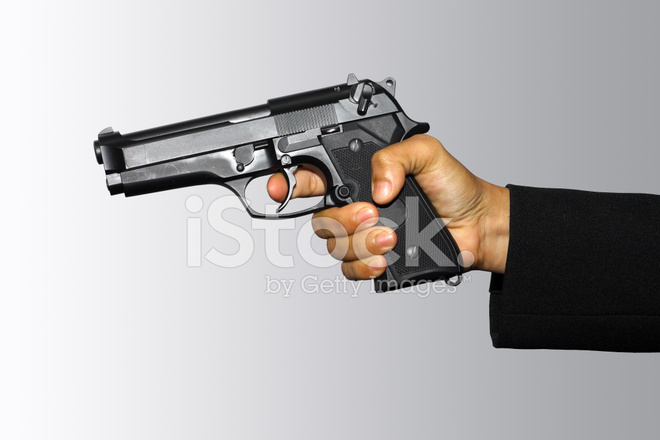pistol: (50, 47, 537, 377)
